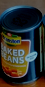beans: (1, 5, 42, 87)
